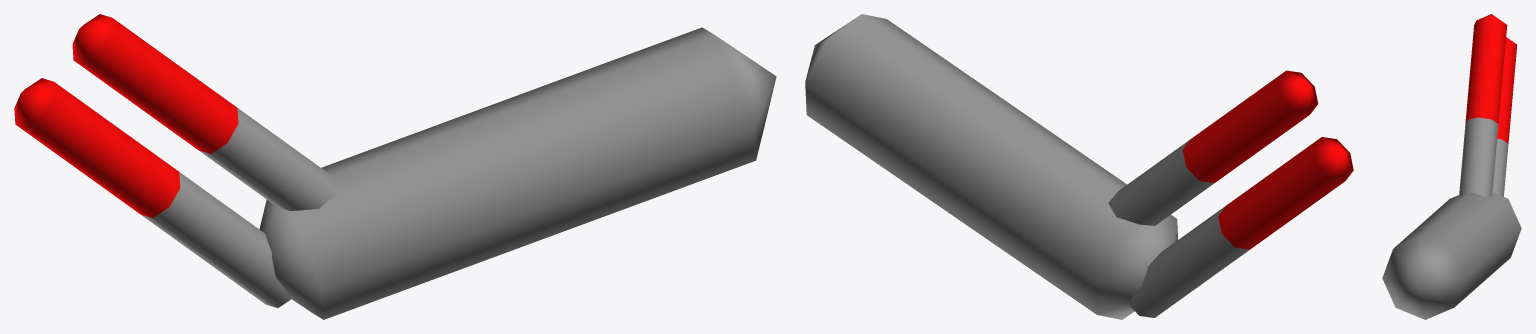
The model's file is acet.glb.
3 renders of one model, left to right at view 1: azimuth 30°, elevation 25°; view 2: azimuth 150°, elevation 25°; view 3: azimuth 270°, elevation 25°, orthographic. The views are drawn at different scales.
Parts seen in each view (by area): view 1: node-geom4; view 2: node-geom4; view 3: node-geom4.
Boxes of the visible parts, x1,y1,x2,y2 form: node-geom4: [14, 14, 776, 319]; node-geom4: [805, 14, 1353, 319]; node-geom4: [1382, 14, 1521, 319].
Bounding box in the file's own units: 2.71 × 1.28 × 0.8214.
